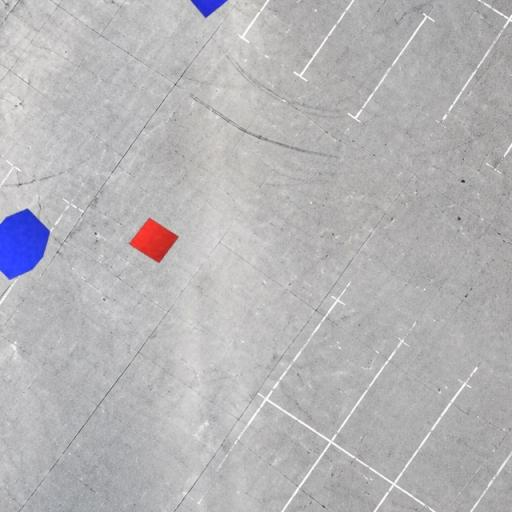RED_SQUARE: (128, 218, 180, 263)
